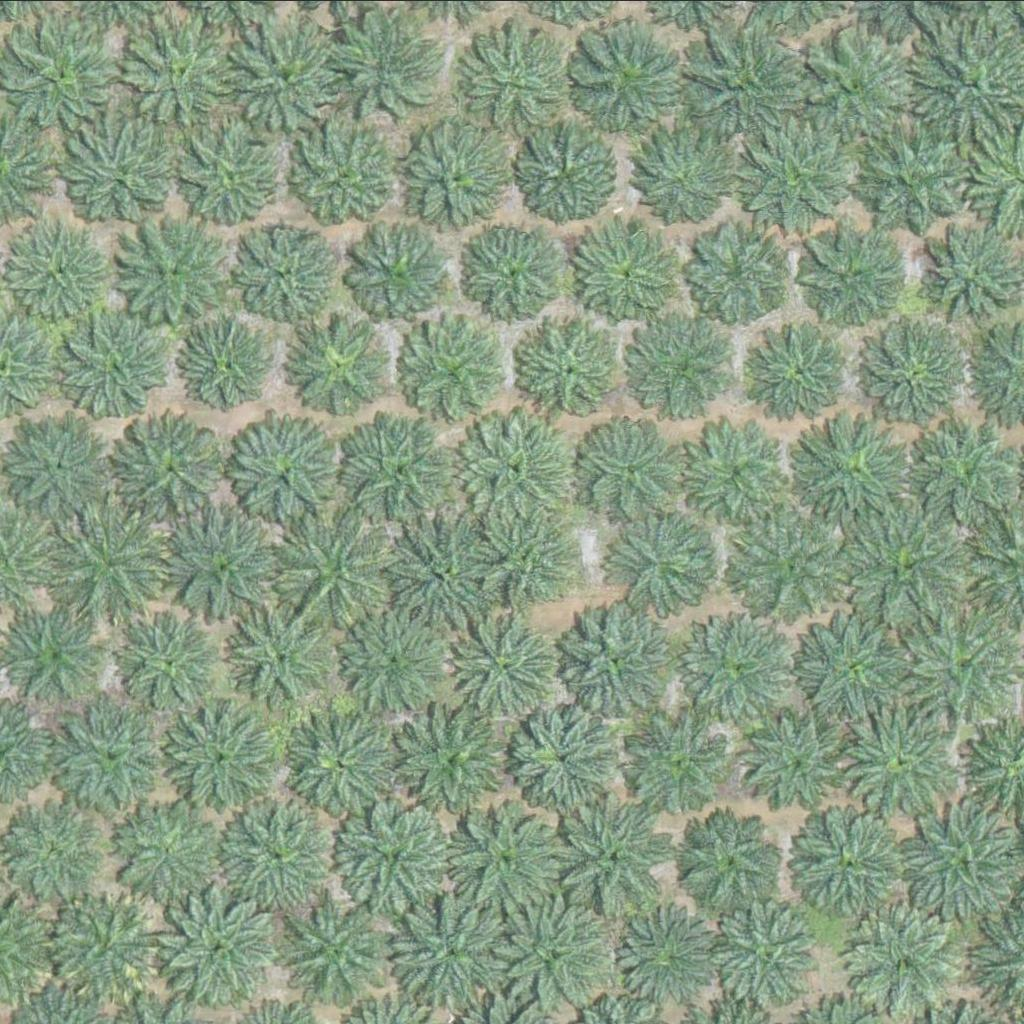Kelapa_Sawit: (459, 410, 585, 535), (4, 414, 118, 527), (393, 121, 507, 234), (681, 412, 795, 525), (603, 508, 717, 621), (794, 419, 908, 532), (843, 707, 957, 820), (3, 17, 116, 130), (119, 216, 232, 329), (273, 510, 386, 623), (386, 518, 499, 631), (451, 609, 564, 722), (162, 705, 275, 818), (158, 887, 271, 1000), (285, 890, 398, 1003), (398, 896, 511, 1009), (506, 897, 619, 1010), (449, 803, 562, 916), (740, 117, 853, 230), (738, 511, 851, 624), (743, 698, 856, 811), (789, 805, 902, 918), (564, 799, 677, 912), (609, 903, 722, 1016), (800, 32, 913, 145), (859, 318, 972, 431), (903, 609, 1016, 722), (112, 415, 226, 527), (225, 420, 339, 532), (51, 506, 165, 618), (570, 415, 684, 527), (558, 603, 672, 715), (844, 904, 958, 1016), (904, 804, 1018, 916), (128, 13, 241, 125), (230, 17, 343, 129), (456, 20, 569, 132), (59, 118, 172, 230), (169, 120, 282, 232), (519, 310, 632, 422), (399, 313, 512, 425), (337, 415, 450, 527), (170, 513, 283, 625), (283, 710, 396, 822), (401, 703, 514, 815), (110, 797, 223, 909), (220, 796, 333, 908), (336, 798, 449, 910), (514, 700, 627, 812), (684, 30, 797, 142), (628, 316, 741, 428), (631, 708, 744, 820), (692, 612, 805, 724), (794, 608, 907, 720), (718, 895, 831, 1007), (859, 121, 972, 233), (848, 511, 961, 623), (571, 18, 684, 130), (7, 606, 108, 706), (337, 20, 438, 120), (292, 124, 393, 224), (66, 313, 167, 413), (118, 613, 219, 713), (225, 609, 326, 709), (342, 611, 443, 711), (60, 705, 161, 805), (3, 802, 104, 902), (53, 896, 154, 996), (634, 125, 735, 225), (574, 225, 675, 325), (684, 219, 785, 319), (681, 810, 782, 910), (806, 230, 907, 330), (10, 218, 110, 318), (514, 113, 614, 213), (238, 218, 338, 318), (347, 224, 447, 324), (466, 223, 566, 323), (180, 309, 280, 409), (290, 308, 390, 408), (755, 317, 855, 417), (490, 527, 565, 602)
